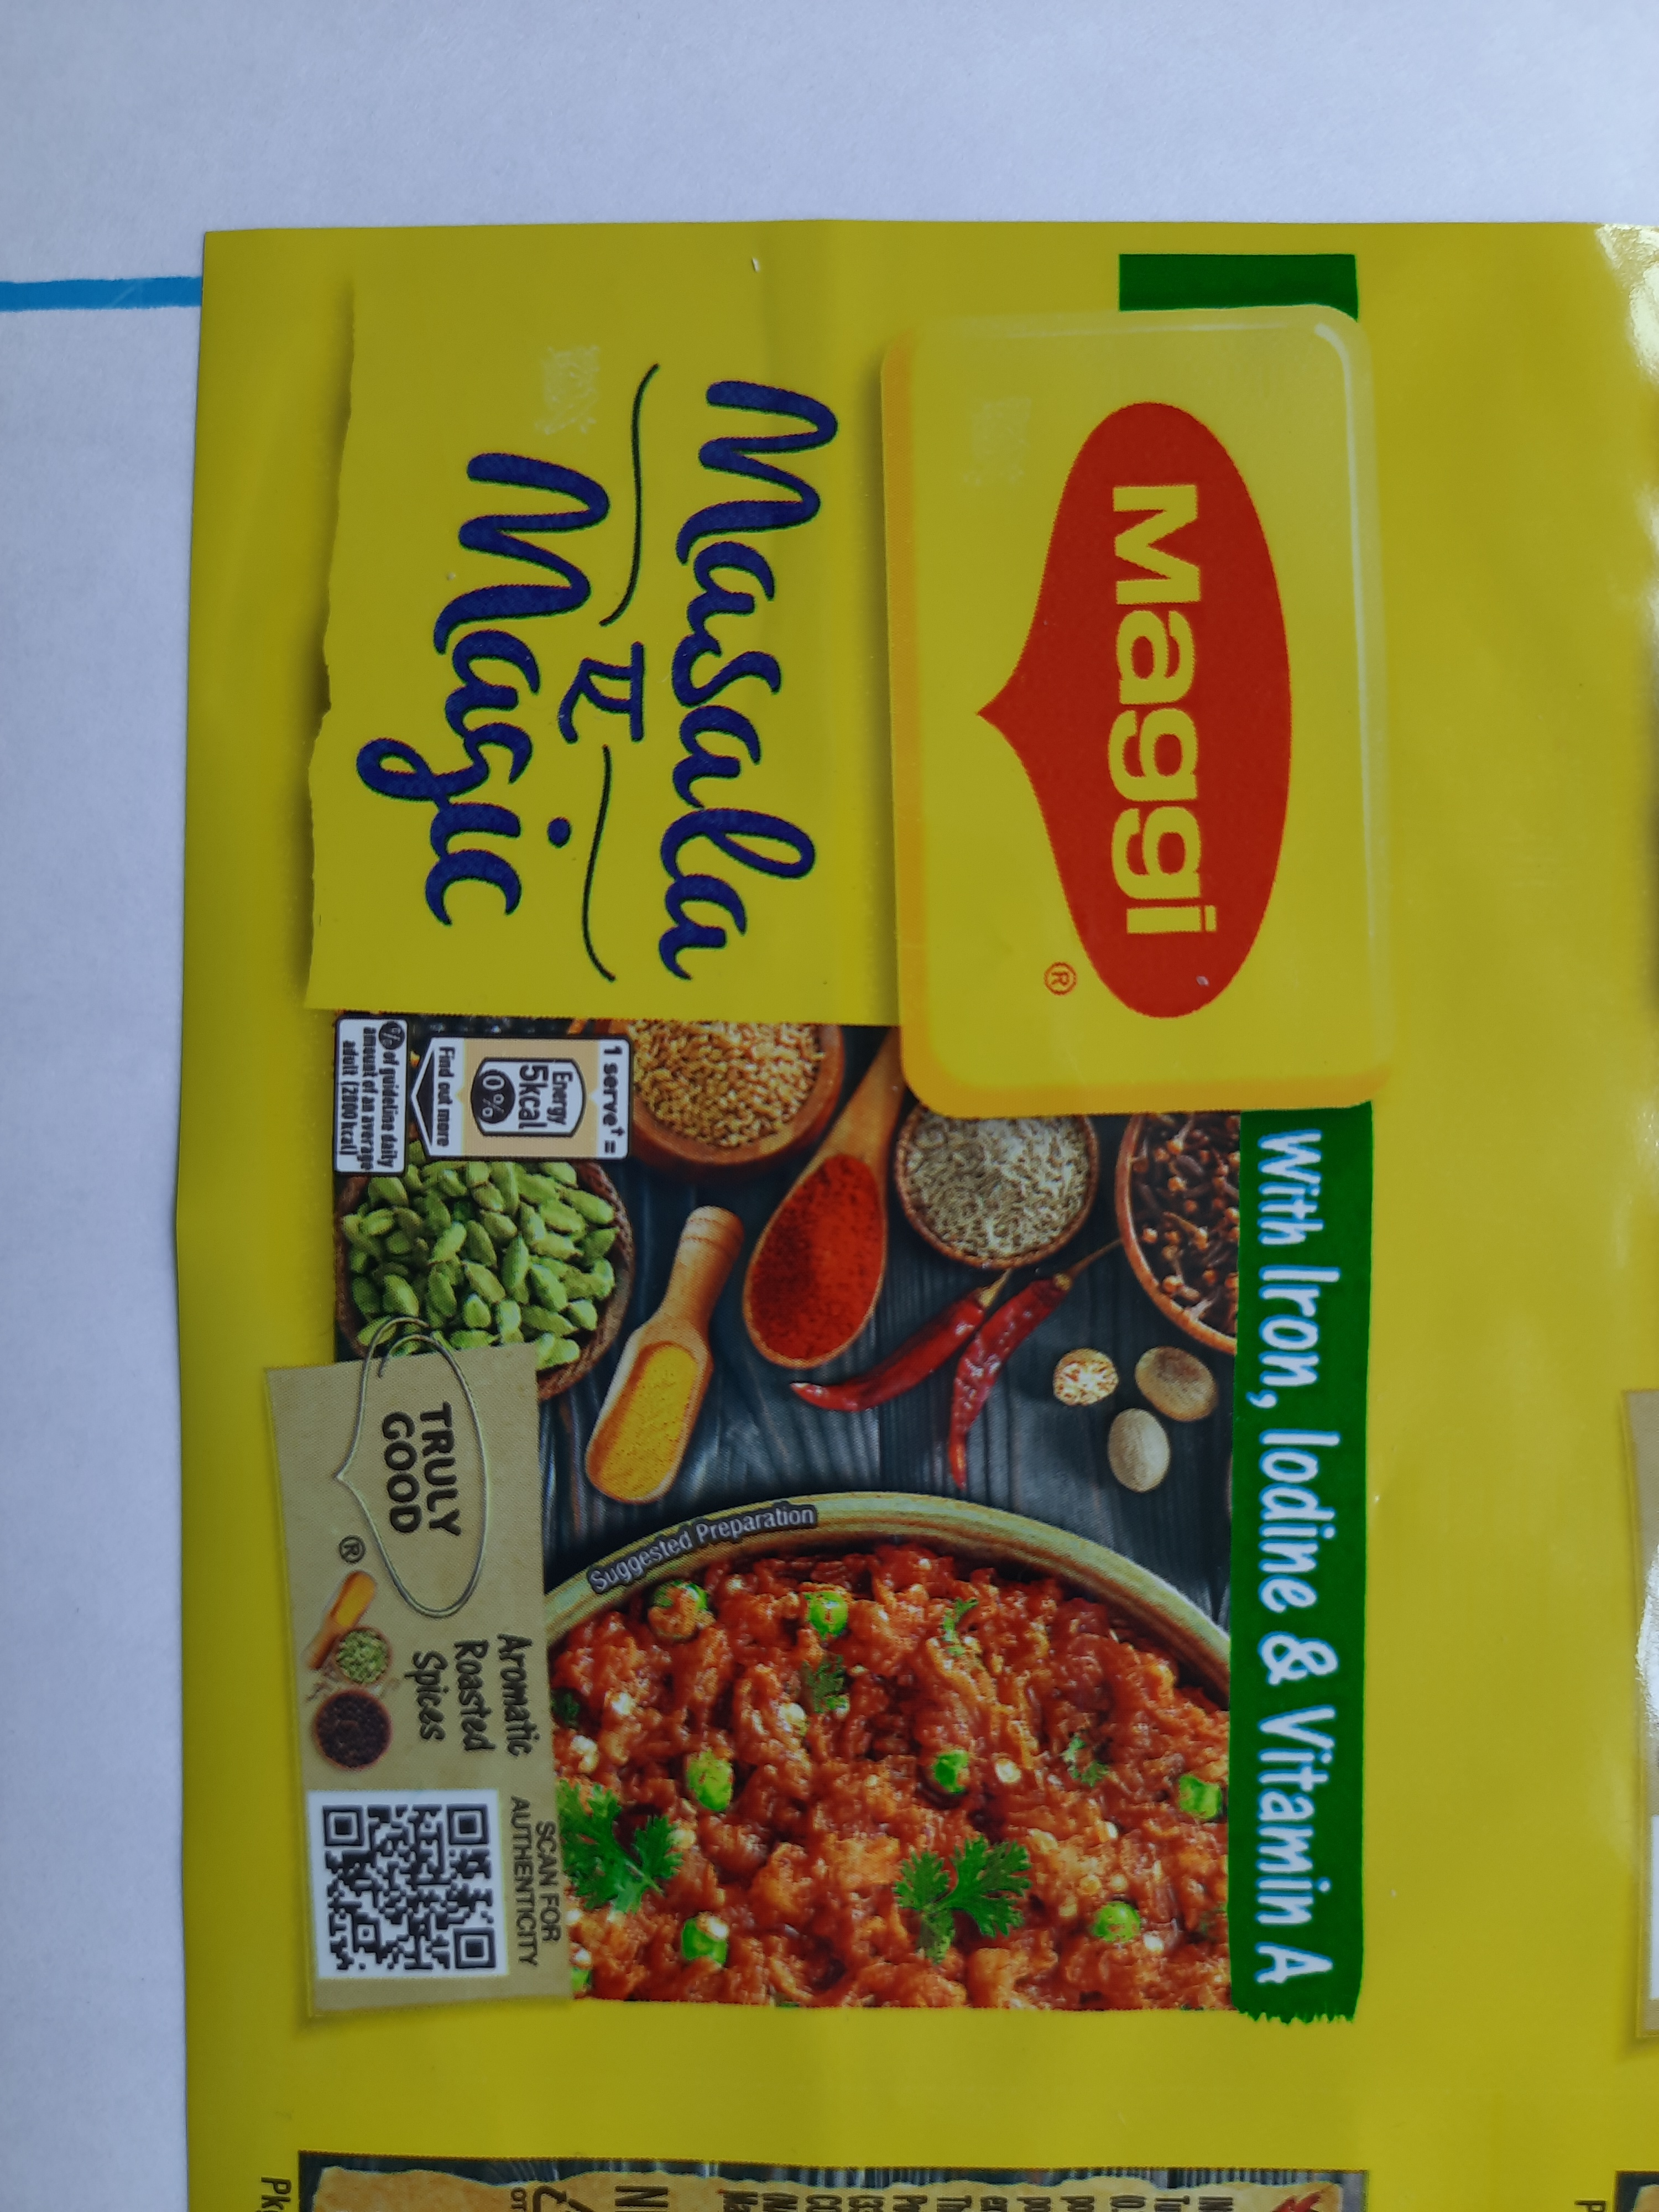qr_code: (310, 1792, 505, 1982)
